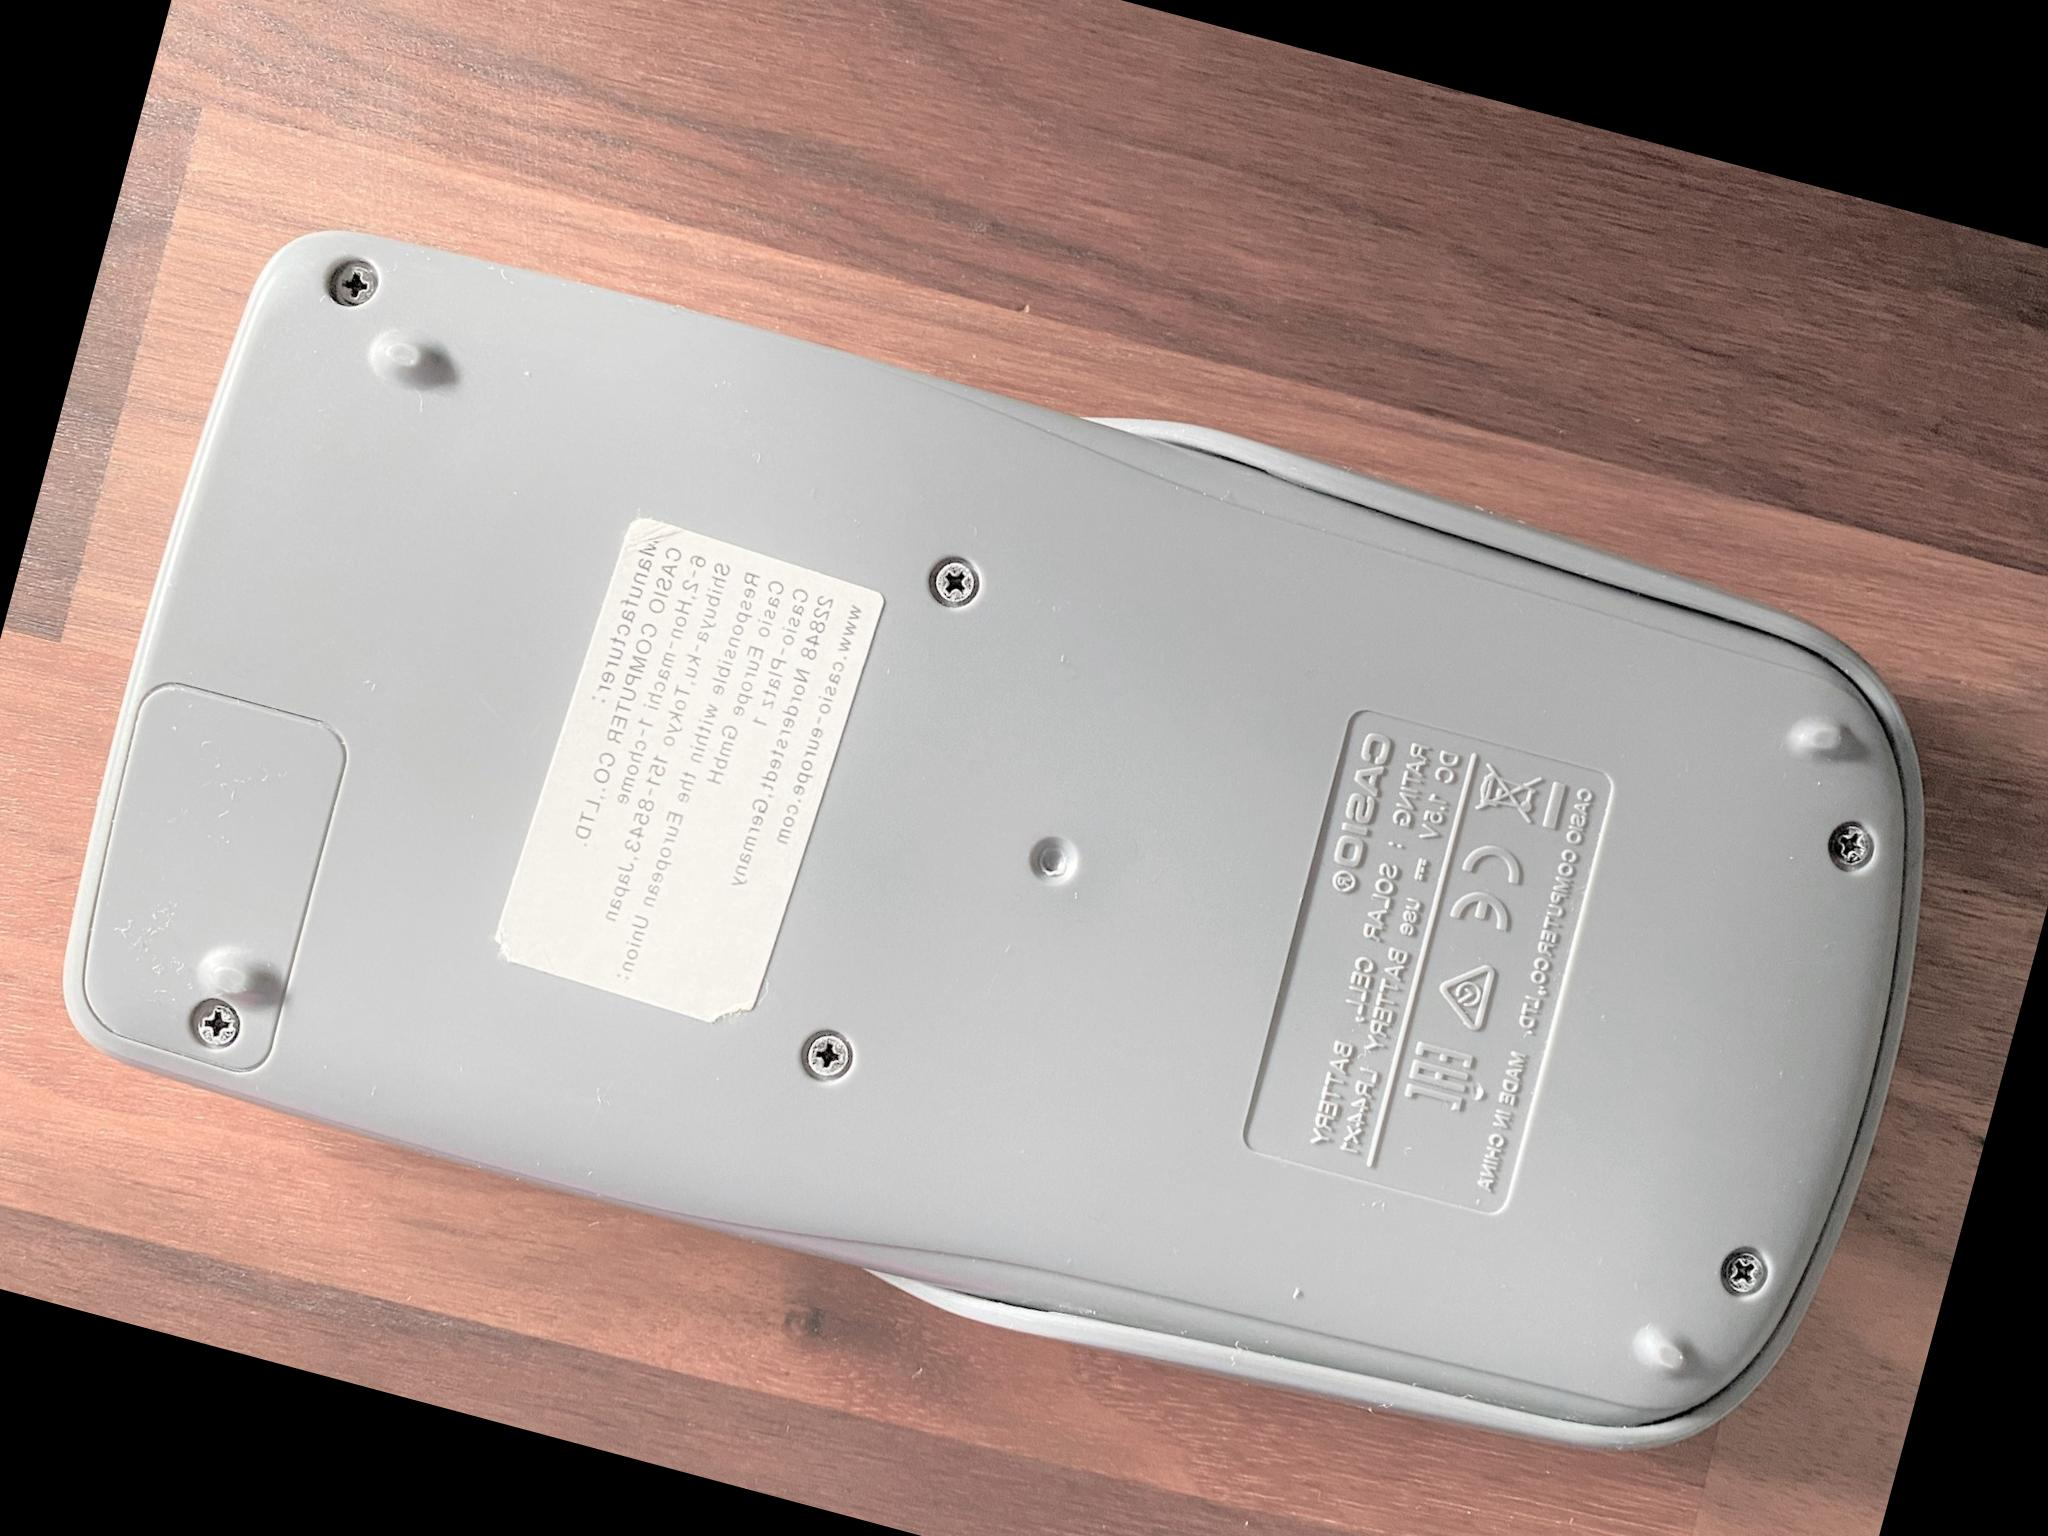PH: (798, 1025, 856, 1086), (1714, 1241, 1772, 1300), (189, 992, 245, 1052), (326, 253, 379, 313), (1824, 816, 1880, 870), (926, 555, 980, 608)
